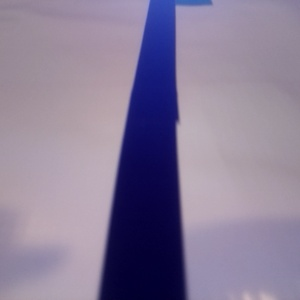top_right: (176, 74, 270, 135), (1, 26, 39, 62)
